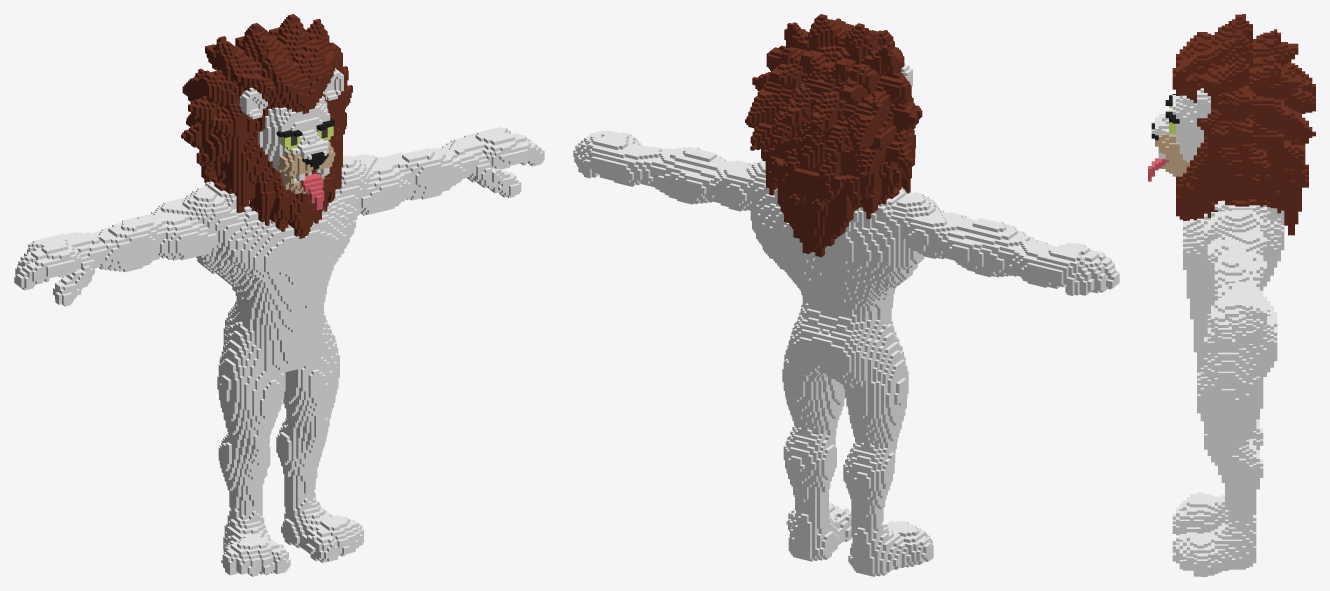
The model's file is 664-DgF_frHW.glb.
The picture shows the model from 3 angles, left to right: view 1: azimuth 30°, elevation 25°; view 2: azimuth 150°, elevation 25°; view 3: azimuth 270°, elevation 25°; orthographic projection. The views are drawn at different scales.
Visible parts, largest first — view 1: tongue_out; view 2: tongue_out; view 3: tongue_out.
Boxes of the visible parts, left/top/right/bottom form: tongue_out: left=14, top=14, right=544, bottom=576; tongue_out: left=573, top=14, right=1119, bottom=576; tongue_out: left=1148, top=14, right=1315, bottom=576.
Bounding box in the file's own units: 17.2 × 16.5 × 4.8.
Materials: 4 (4 with a texture image).
